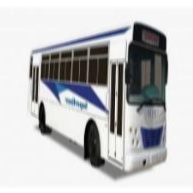bus: (23, 22, 168, 176)
